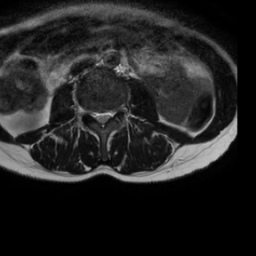CCS_stenosis: (98, 106, 106, 130)
LFS_normal: (112, 100, 119, 121)
LLS_stenosis: (106, 105, 112, 126)
RFS_stenosis: (84, 104, 92, 122)
RLS_stenosis: (92, 105, 99, 127)
